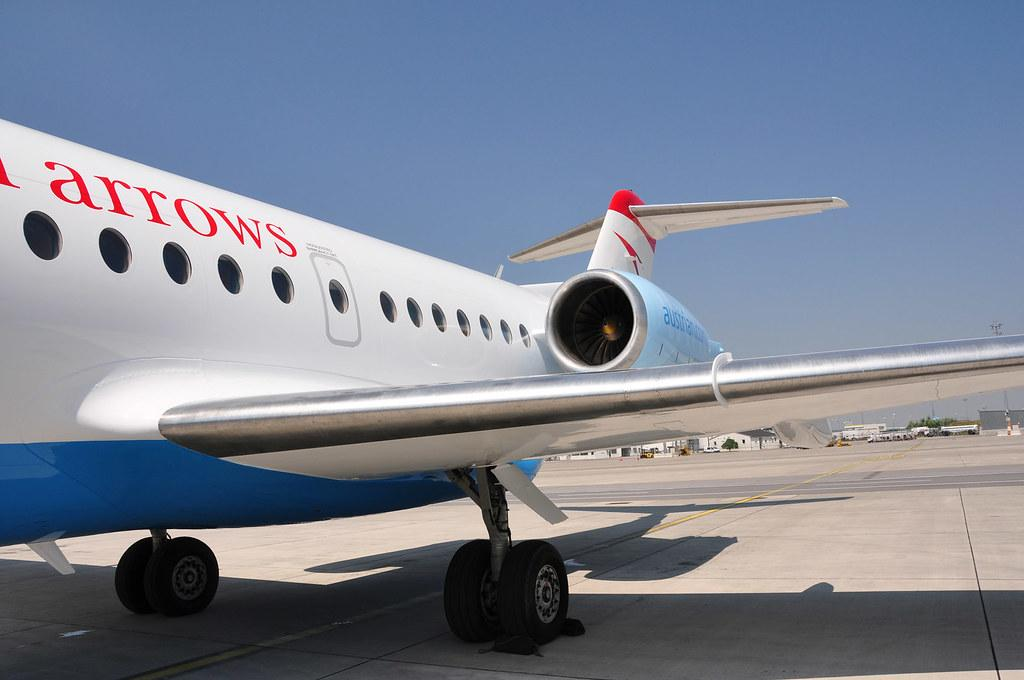plane: (2, 117, 1023, 647)
